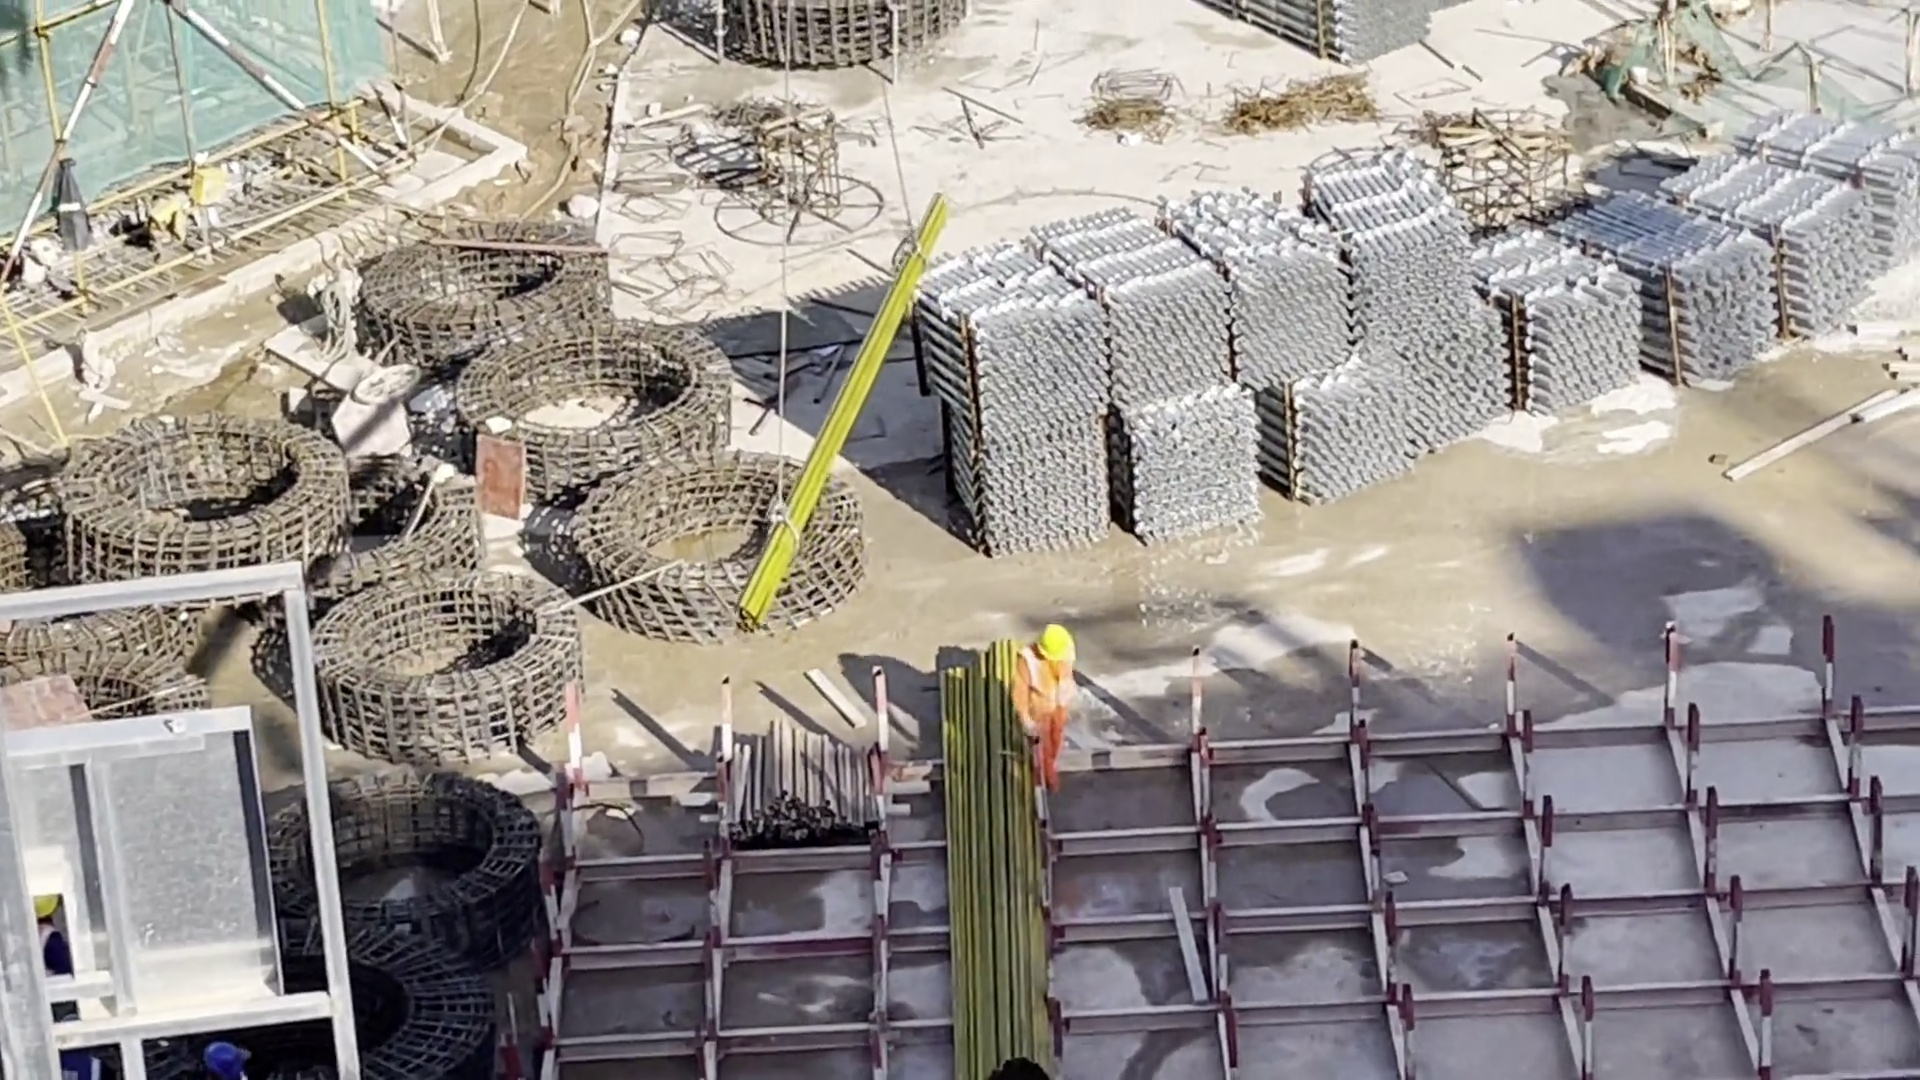helmet: (1035, 615, 1076, 658)
person: (1004, 613, 1076, 790)
scaffold: (915, 94, 1915, 558)
vest: (1016, 649, 1069, 721)
